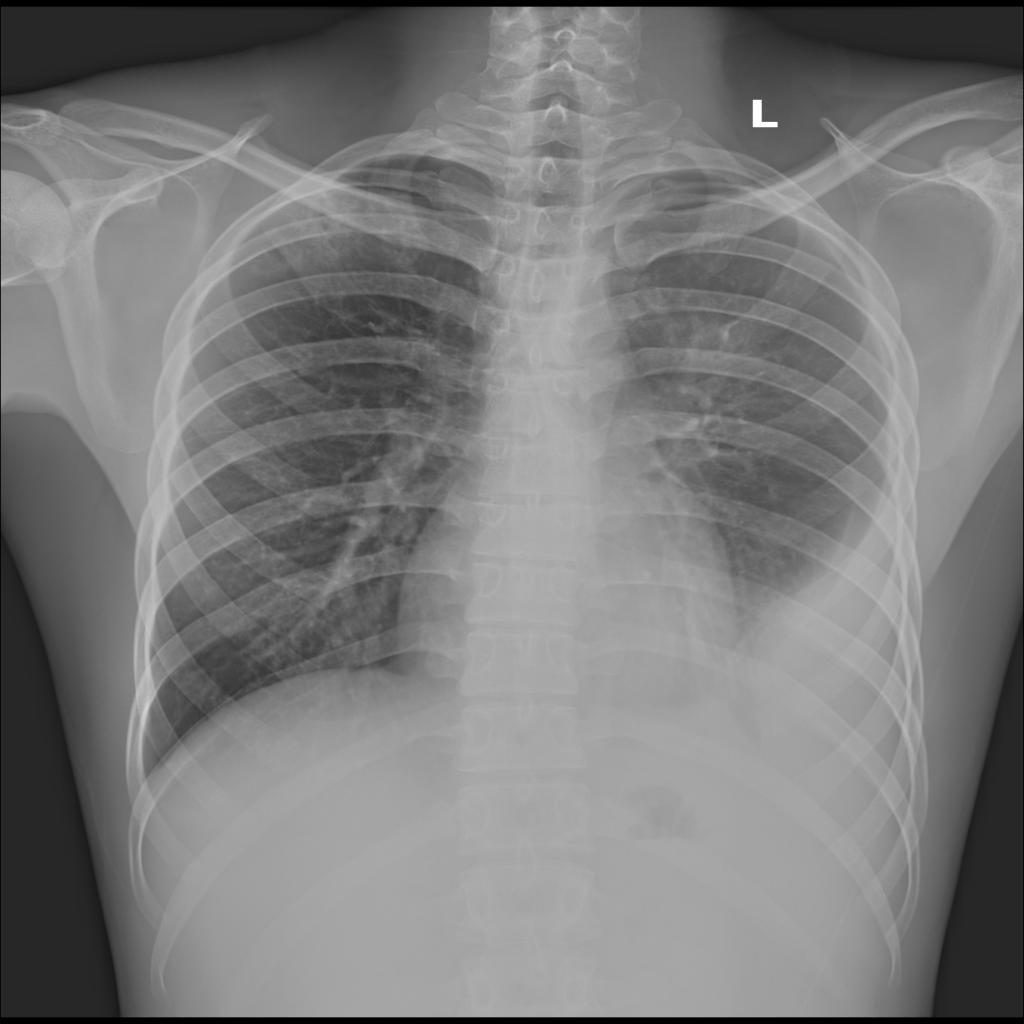Nodule: (244, 184, 353, 264)
